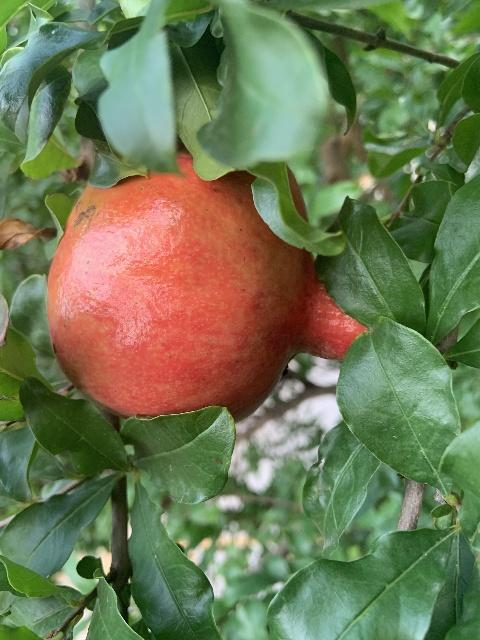ripe: (44, 148, 363, 421)
